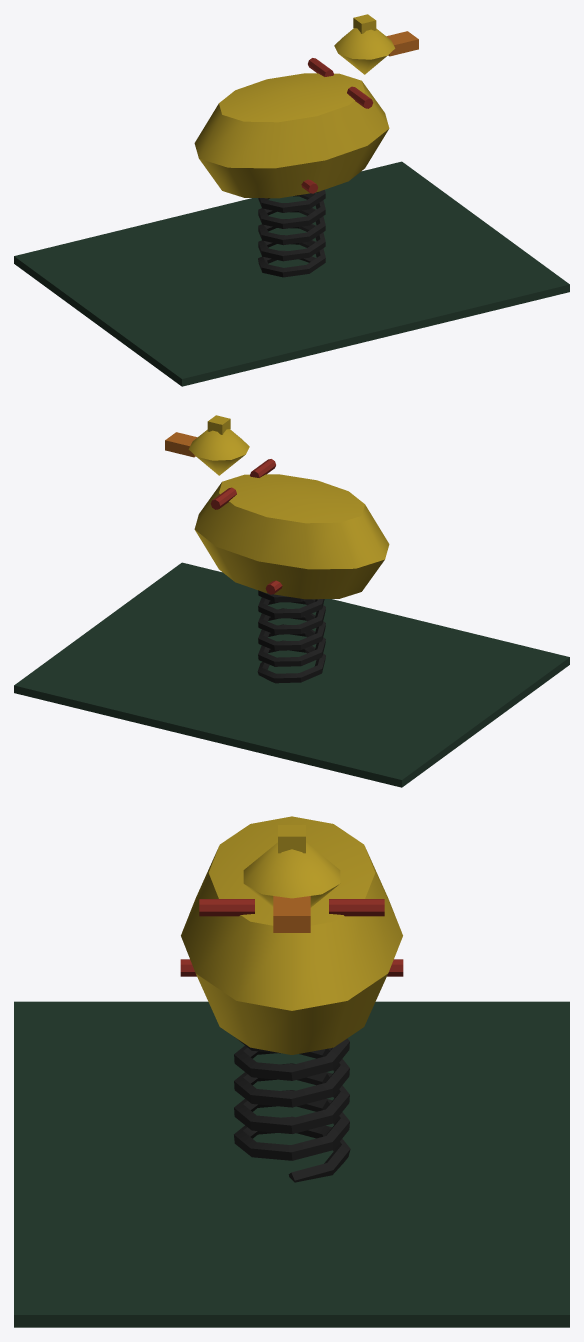
File: SM_Prop_play_springer_2.glb
3 renders of one model, top to bottom at view 1: azimuth 30°, elevation 25°; view 2: azimuth 150°, elevation 25°; view 3: azimuth 270°, elevation 25°, orthographic. The views are drawn at different scales.
Visible parts, largest first — view 1: SM_Prop_play_springer_2; view 2: SM_Prop_play_springer_2; view 3: SM_Prop_play_springer_2.
Part boxes in pixels (left/top/right/bottom): SM_Prop_play_springer_2: left=14, top=14, right=569, bottom=386; SM_Prop_play_springer_2: left=14, top=415, right=569, bottom=787; SM_Prop_play_springer_2: left=14, top=816, right=569, bottom=1327.
Bounding box in the file's own units: 1.6 × 0.95 × 1.2.
